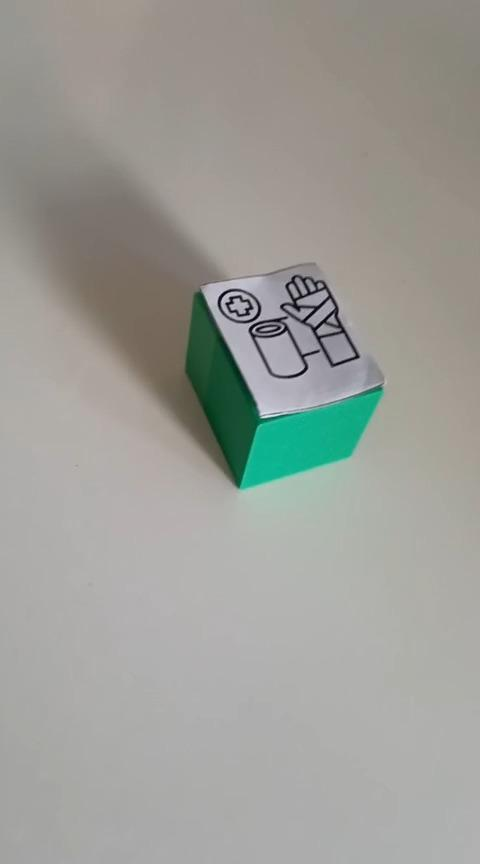Bandages: (183, 260, 385, 490)
